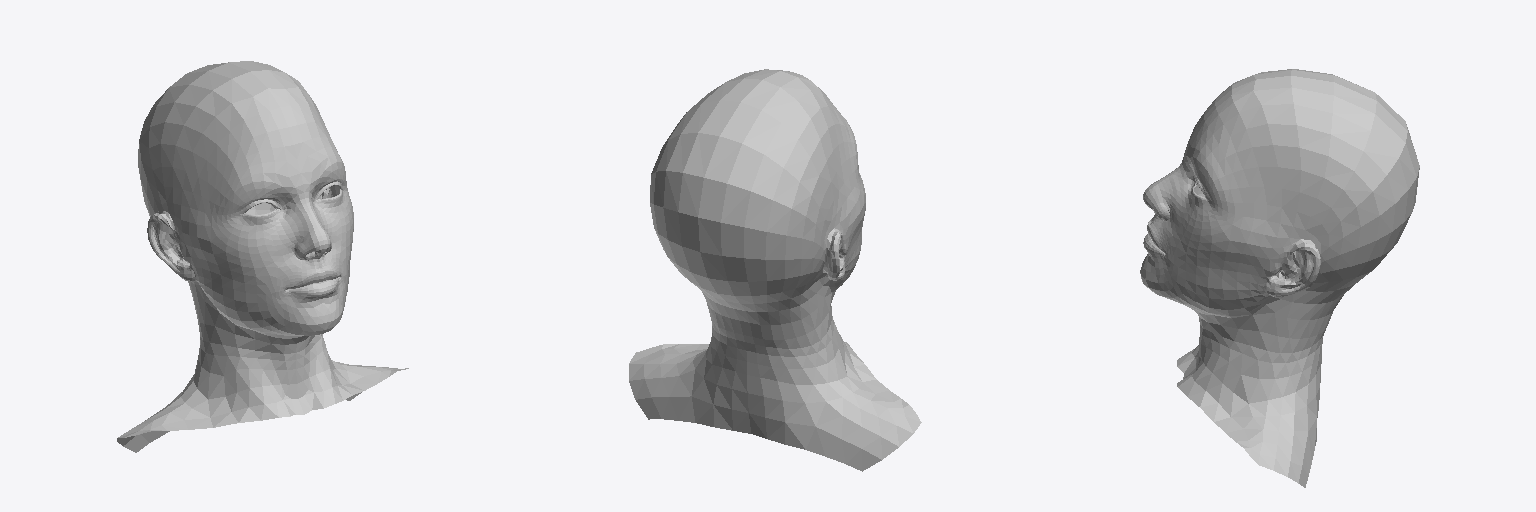
Rendered from female_head.obj.
The picture shows the model from 3 angles: view 1: azimuth 30°, elevation 25°; view 2: azimuth 150°, elevation 25°; view 3: azimuth 270°, elevation 25°; orthographic projection.
Parts seen in each view (by area): view 1: Female_Real_Head2; view 2: Female_Real_Head2; view 3: Female_Real_Head2.
Boxes of the visible parts, <box> form: Female_Real_Head2: <box>117,61,408,452</box>; Female_Real_Head2: <box>629,69,921,471</box>; Female_Real_Head2: <box>1140,69,1419,487</box>.
Size of the model in its own units: 340 by 410 by 288.